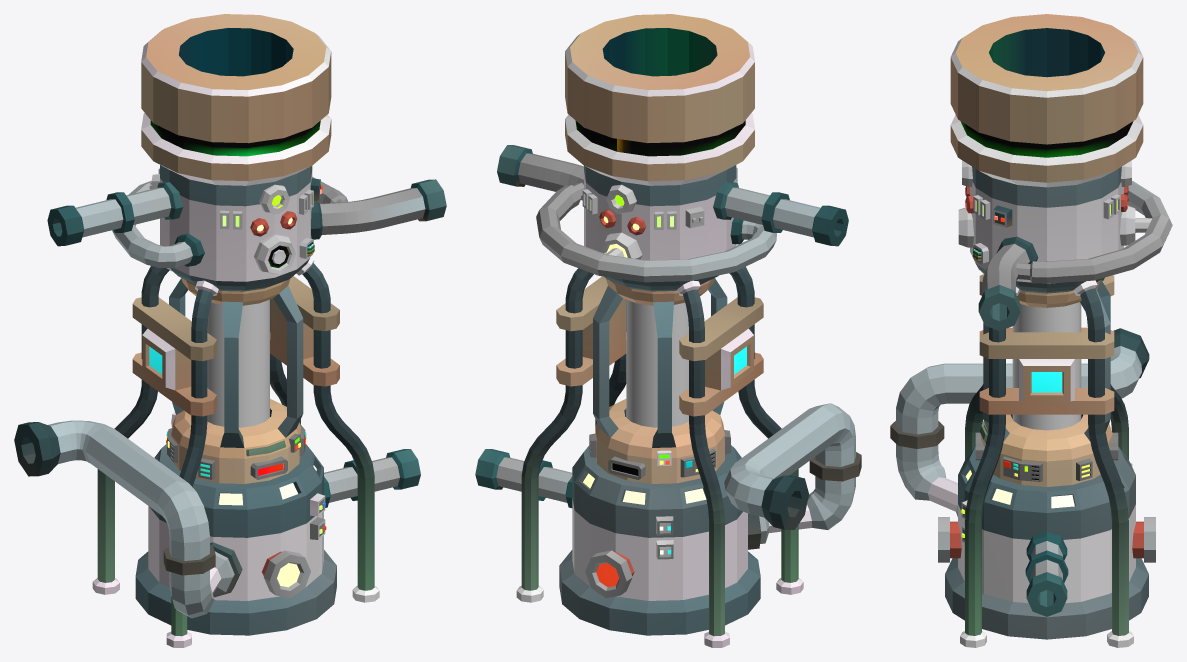
The model's file is Reactor.fbx.
3 views of the same model, side by side, from view 1: azimuth 30°, elevation 25°; view 2: azimuth 150°, elevation 25°; view 3: azimuth 270°, elevation 25° (orthographic).
Visible parts, largest first — view 1: Reactor; view 2: Reactor; view 3: Reactor.
Part boxes in pixels (left/top/right/bottom): Reactor: left=14, top=14, right=446, bottom=647; Reactor: left=475, top=14, right=861, bottom=647; Reactor: left=890, top=14, right=1172, bottom=647.
Bounding box in the file's own units: 463 × 674 × 317.
